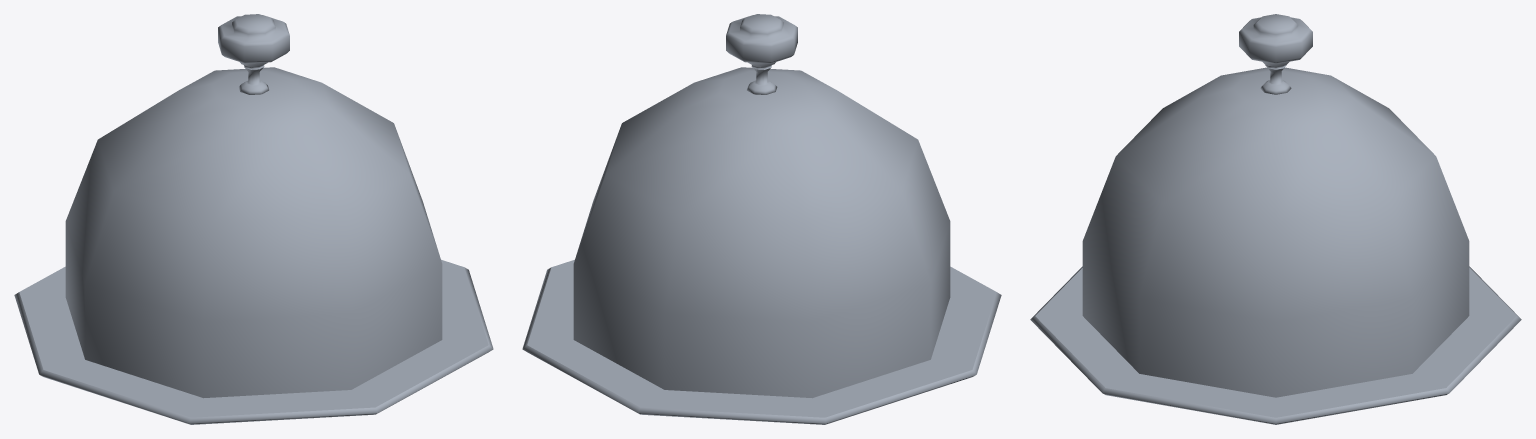
Rendered from Bell.glb.
3 renders of one model, left to right at view 1: azimuth 30°, elevation 25°; view 2: azimuth 150°, elevation 25°; view 3: azimuth 270°, elevation 25°, orthographic.
Visible parts, largest first — view 1: misc_cloche_Cylinder.015, misc_cloche_plate_Cylinder.014; view 2: misc_cloche_Cylinder.015, misc_cloche_plate_Cylinder.014; view 3: misc_cloche_Cylinder.015, misc_cloche_plate_Cylinder.014.
Part boxes in pixels (left/top/right/bottom): misc_cloche_Cylinder.015: left=65, top=14, right=442, bottom=398; misc_cloche_plate_Cylinder.014: left=14, top=259, right=493, bottom=424; misc_cloche_Cylinder.015: left=573, top=14, right=950, bottom=398; misc_cloche_plate_Cylinder.014: left=522, top=259, right=1001, bottom=424; misc_cloche_Cylinder.015: left=1082, top=14, right=1469, bottom=397; misc_cloche_plate_Cylinder.014: left=1030, top=266, right=1521, bottom=424.
Size of the model in its own units: 9.26 by 6.45 by 9.26.
1 material, 1 textured.
